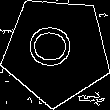O_E: (30, 27, 83, 74)
